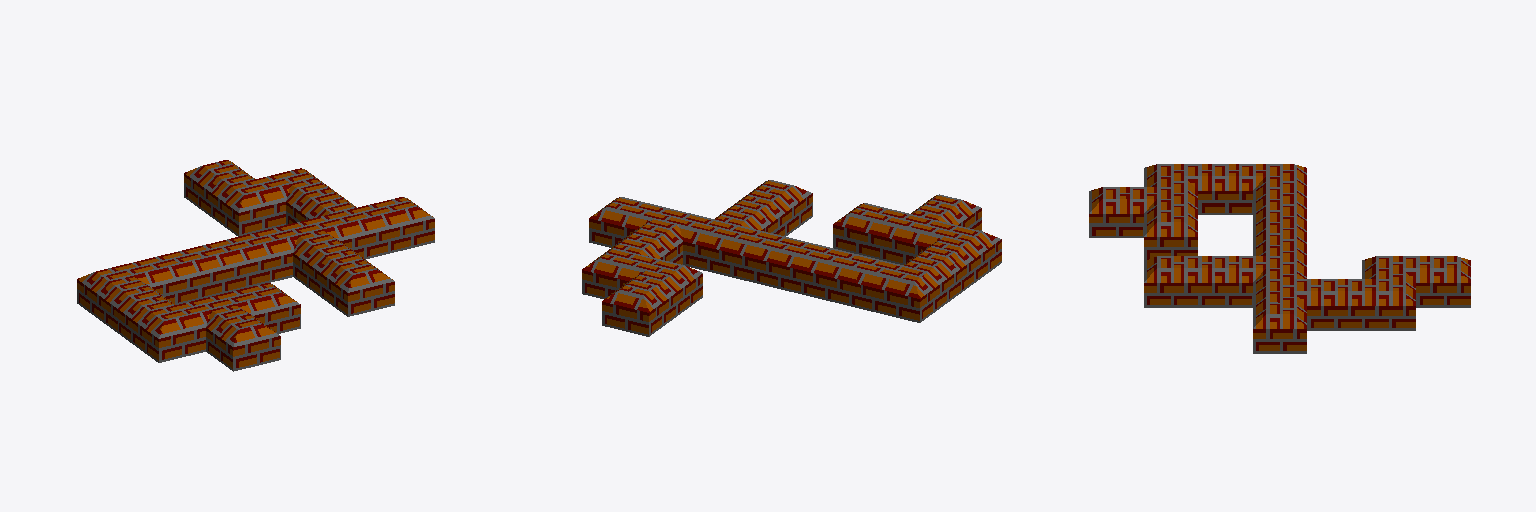
The picture shows the model from 3 angles: view 1: azimuth 30°, elevation 25°; view 2: azimuth 150°, elevation 25°; view 3: azimuth 270°, elevation 25°; orthographic projection.
Parts seen in each view (by area): view 1: Muros0; view 2: Muros0; view 3: Muros0.
Part boxes in pixels (x1,y1,x2,y2): Muros0: (77,160,434,371); Muros0: (582,180,1001,336); Muros0: (1089,164,1470,353).
Size of the model in its own units: 0.4472 by 0.0438 by 0.4472.
1 materials, 1 textured.